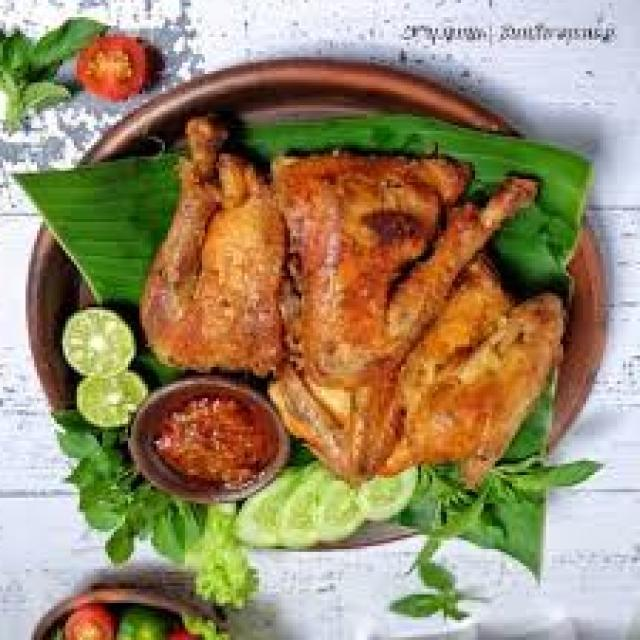ayam_goreng: (109, 101, 570, 502)
